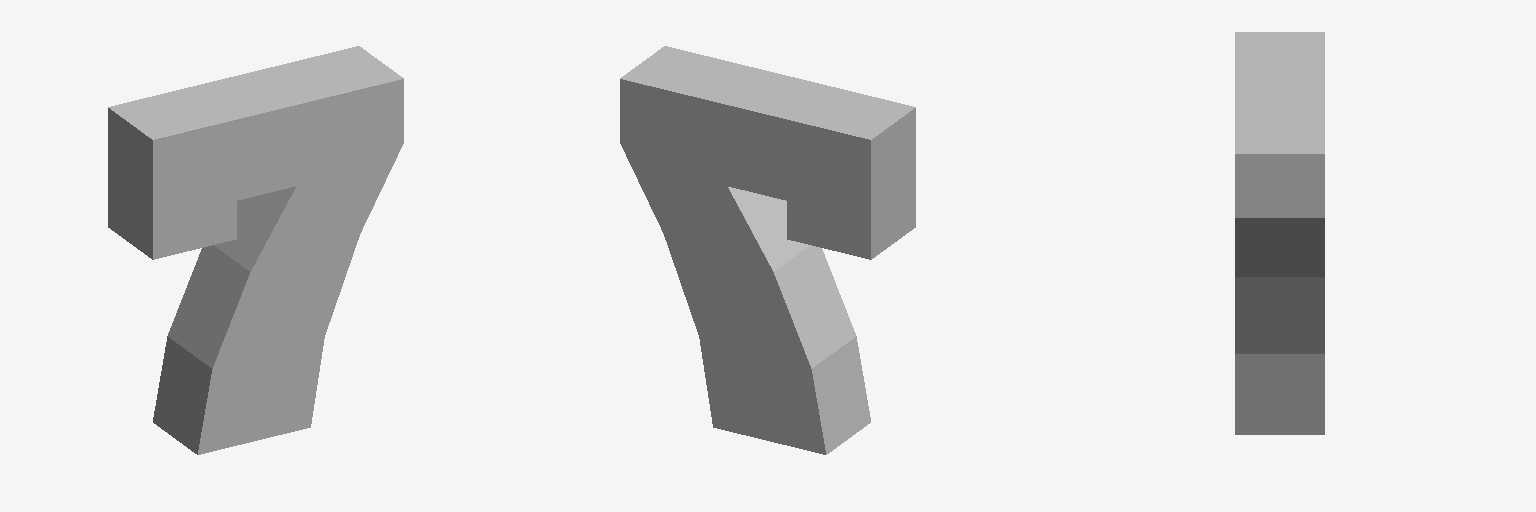
3 renders of one model, left to right at view 1: azimuth 30°, elevation 25°; view 2: azimuth 150°, elevation 25°; view 3: azimuth 270°, elevation 25°, orthographic.
Visible parts, largest first — view 1: text: ABCDEFGHIJKLMNOPQRSTUVWXYZ[number redacted]; view 2: text: ABCDEFGHIJKLMNOPQRSTUVWXYZ[number redacted]; view 3: text: ABCDEFGHIJKLMNOPQRSTUVWXYZ[number redacted].
Boxes of the visible parts, box(x1,y1,x2,y2) form: text: ABCDEFGHIJKLMNOPQRSTUVWXYZ[number redacted]: box(108, 46, 403, 454); text: ABCDEFGHIJKLMNOPQRSTUVWXYZ[number redacted]: box(620, 46, 915, 454); text: ABCDEFGHIJKLMNOPQRSTUVWXYZ[number redacted]: box(1235, 32, 1324, 434).
Size of the model in its own units: 80.72 by 100 by 25.